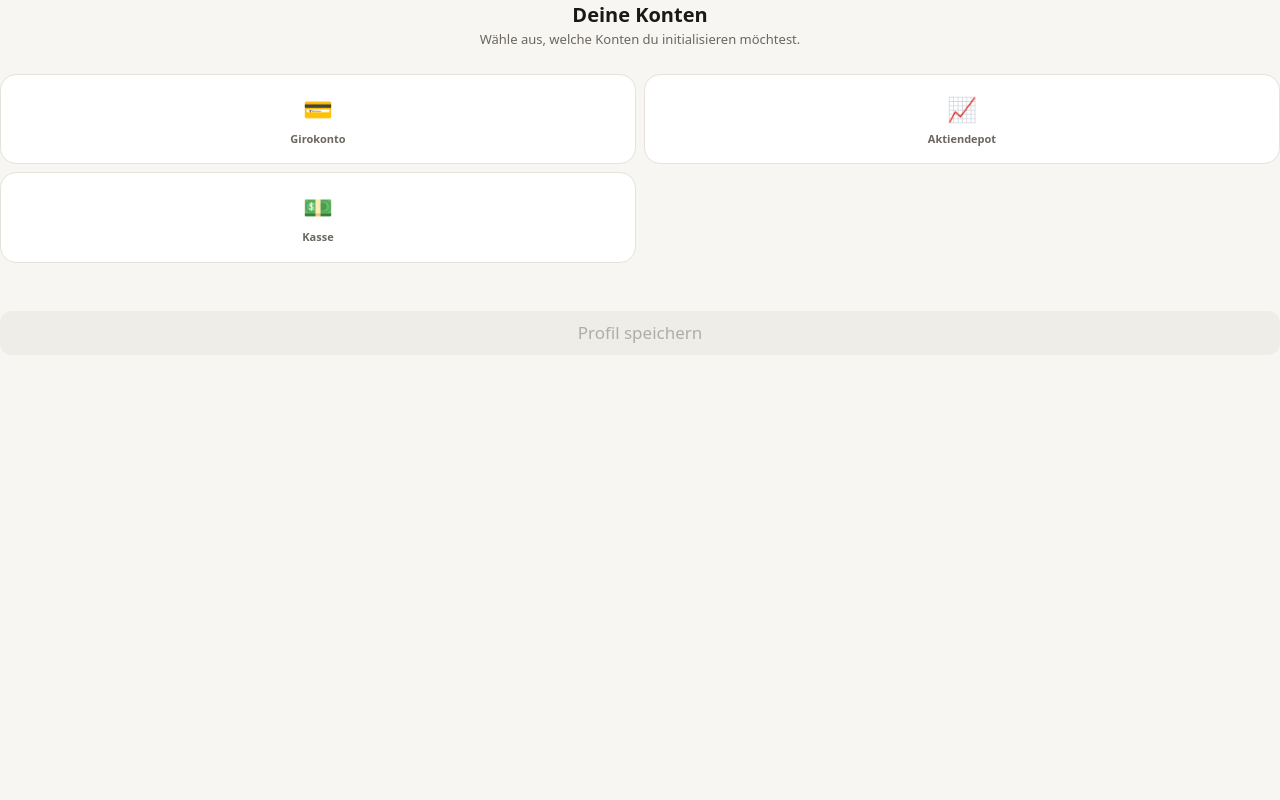
Test case: ProfileCreationForm - Saldo Validation › formats the balance field correctly on blur
Open the modal for Girokonto
Click the text "Girokonto": [318, 139] box [290,130,346,147]
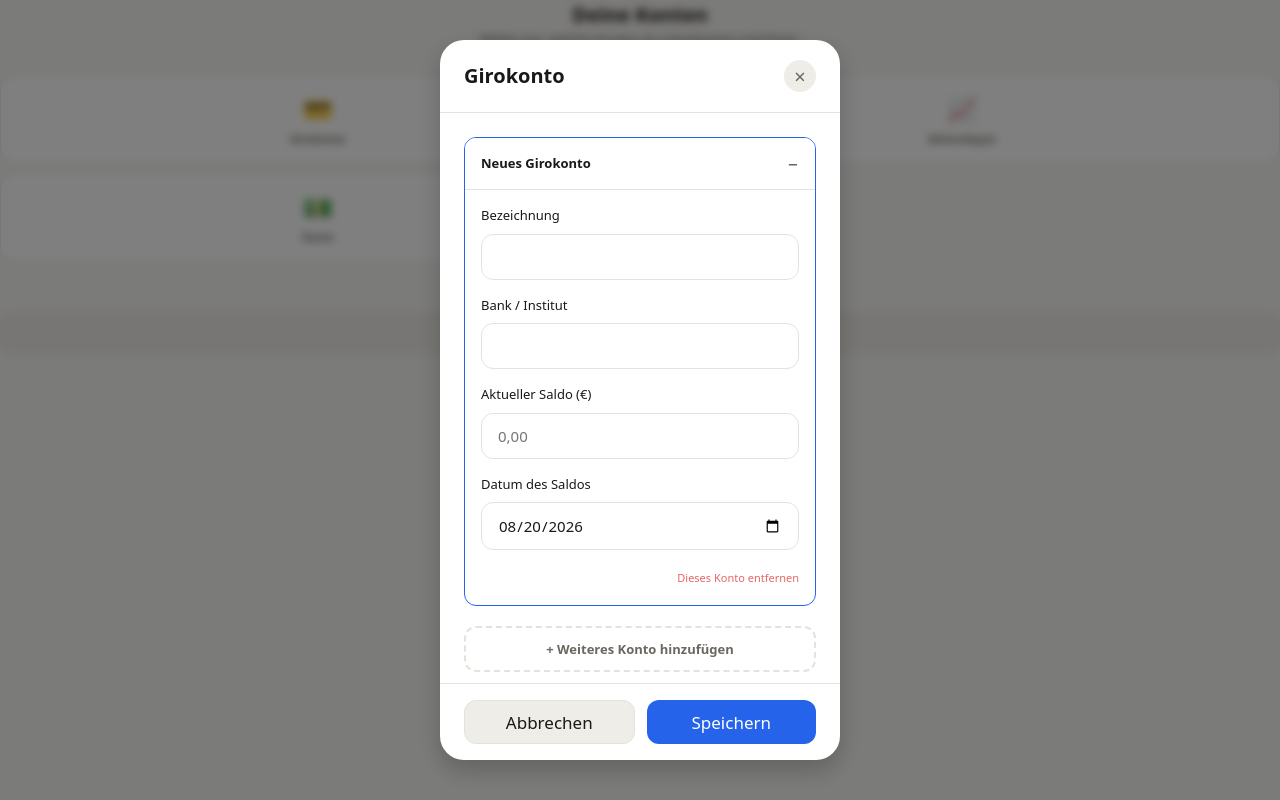
Type "10" and blur
In the field labelled "Aktueller Saldo (€)": [640, 436] box [481,412,799,458], type "10"
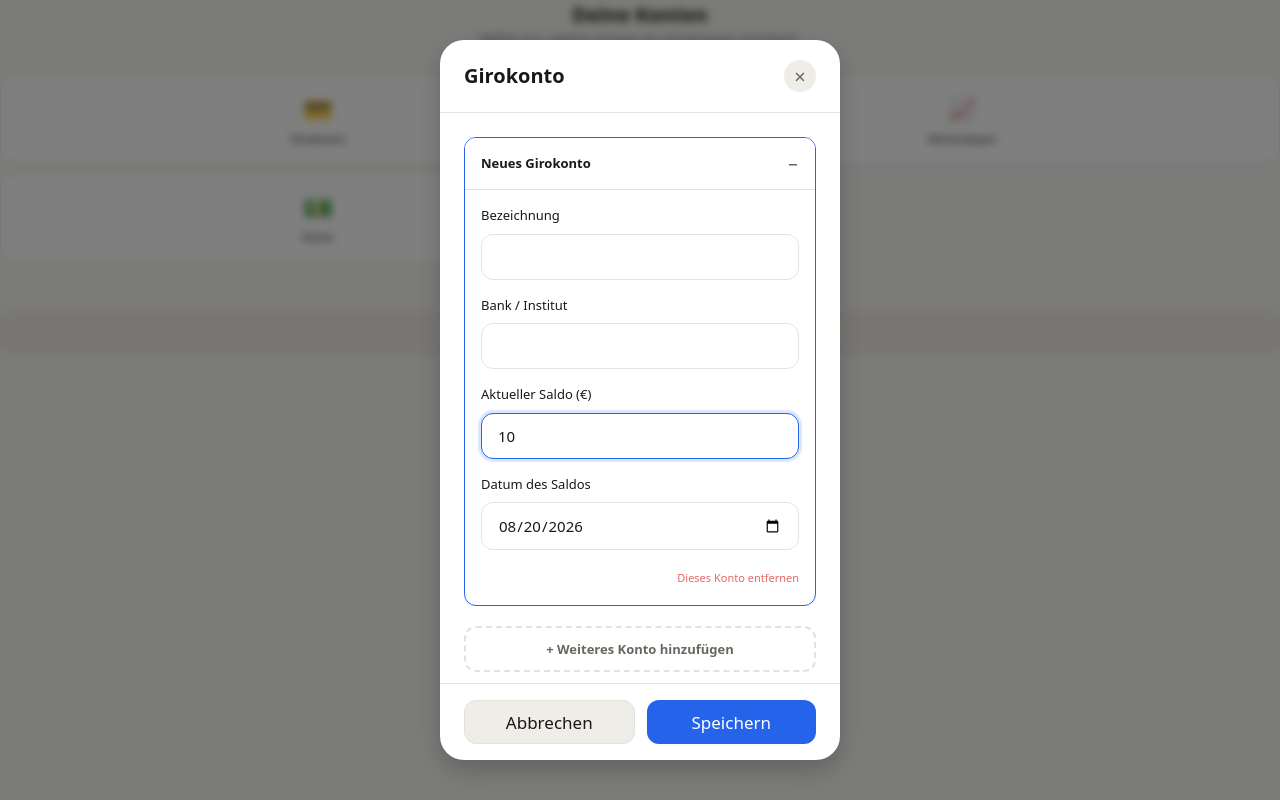
Leave the field labelled "Aktueller Saldo (€)", box [481,412,799,458]
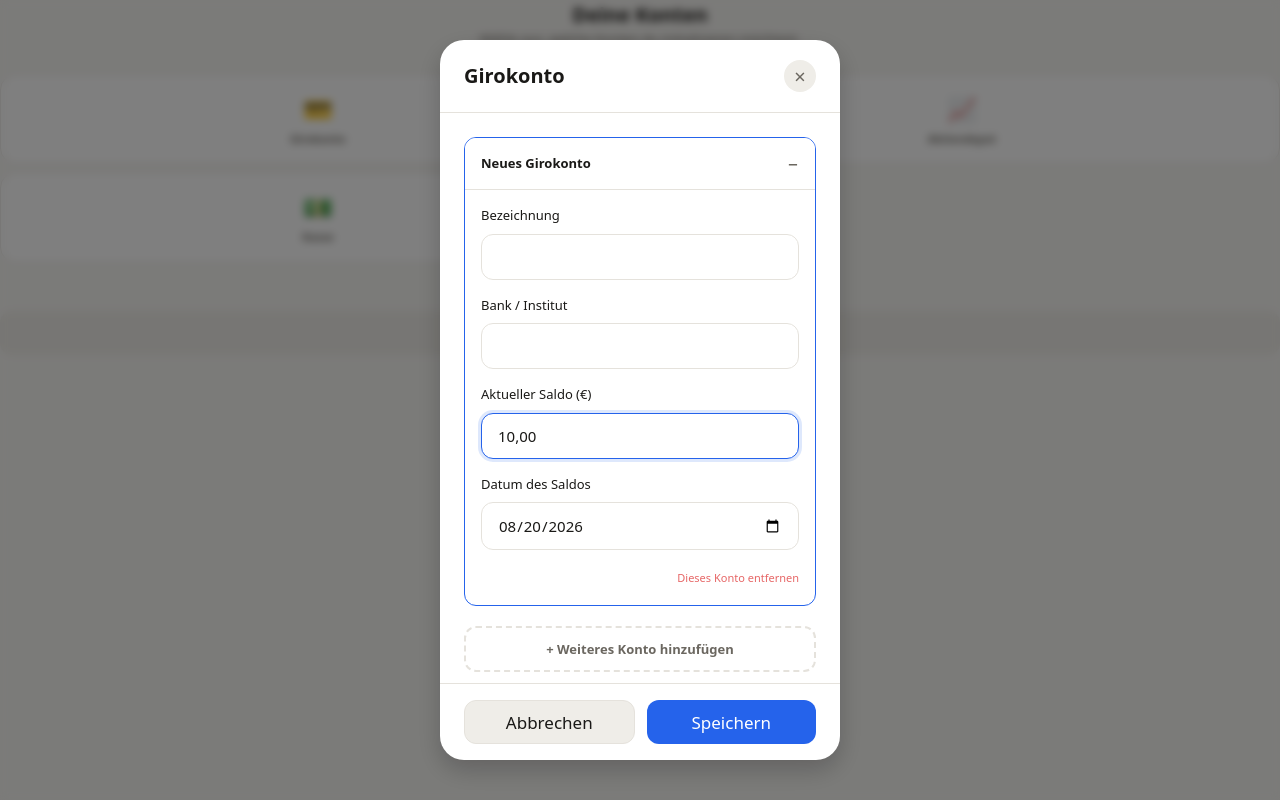
Expected: the field labelled "Aktueller Saldo (€)" holds "10,00"
Clear and type "10,5" and blur
Replace the text in the field labelled "Aktueller Saldo (€)" with "10,5": [640, 436] box [481,412,799,458]
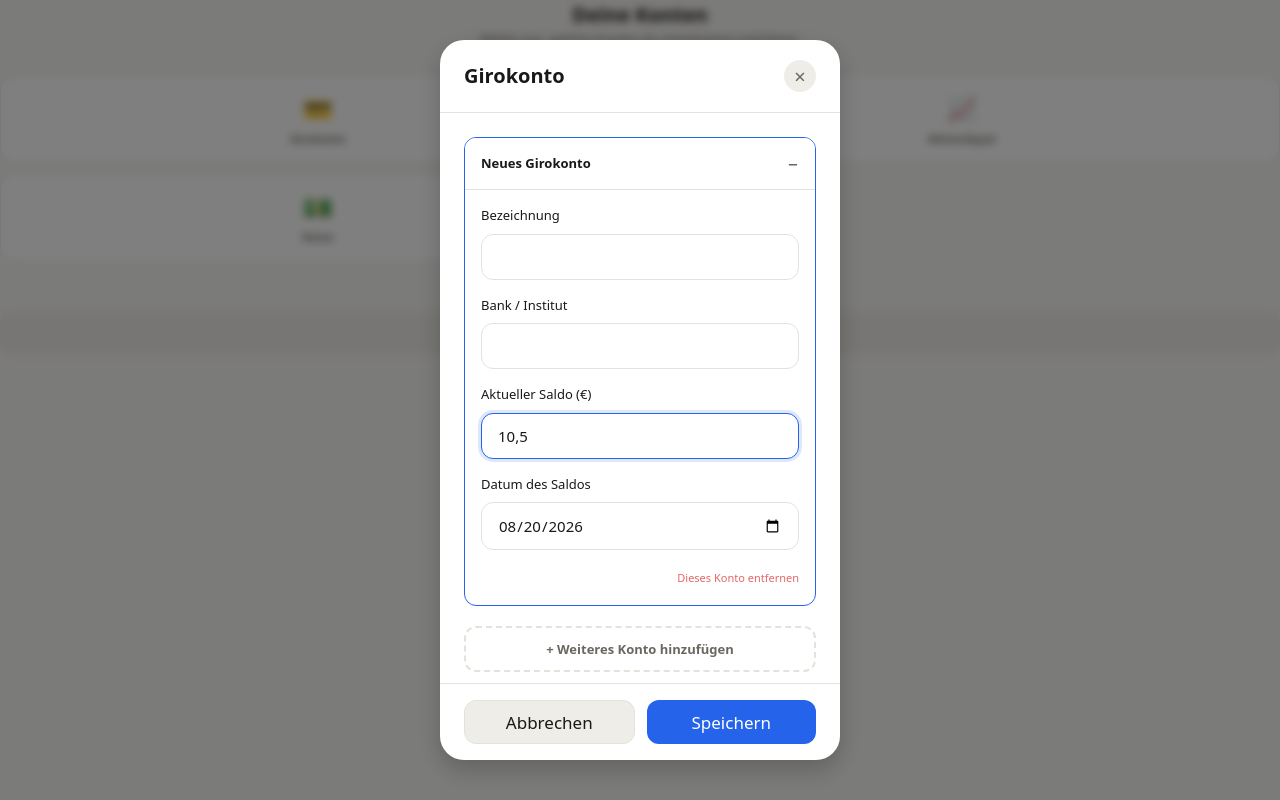
Leave the field labelled "Aktueller Saldo (€)", box [481,412,799,458]
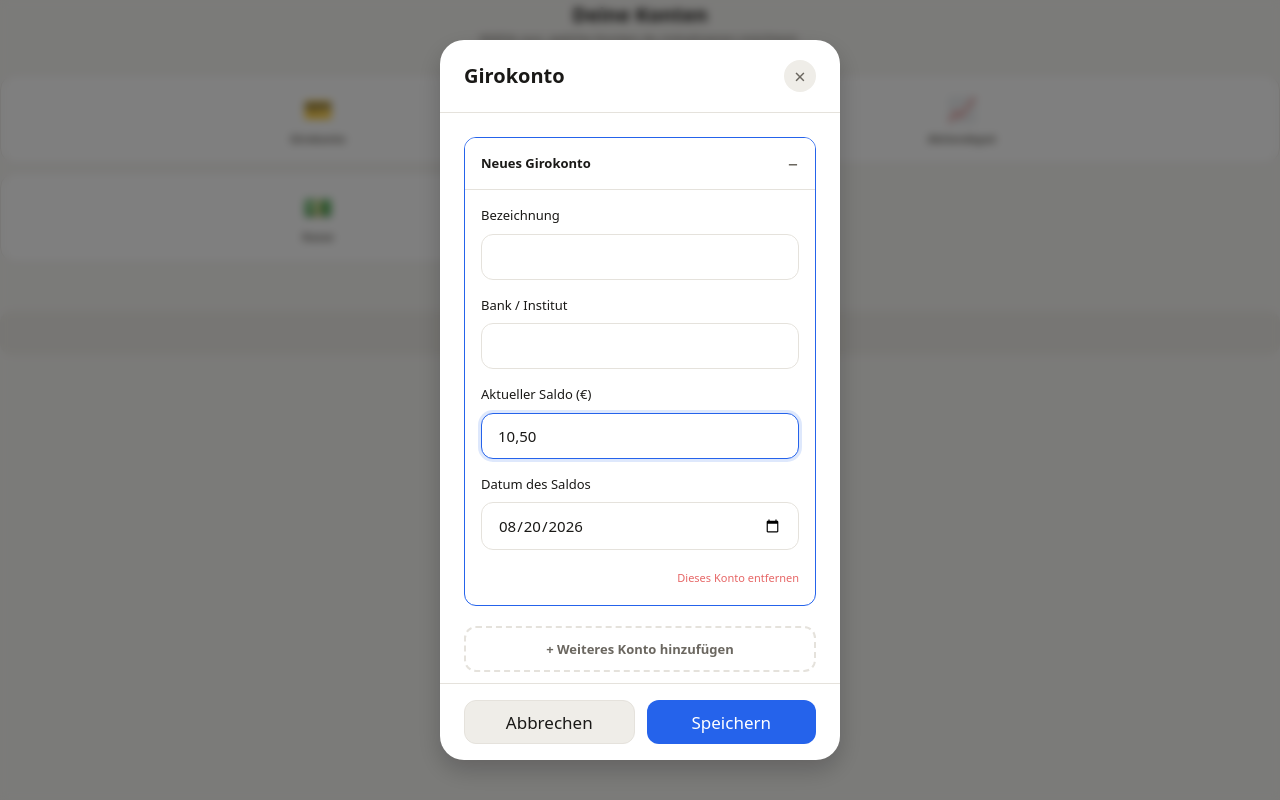
Expected: the field labelled "Aktueller Saldo (€)" holds "10,50", [481,412,799,458]
